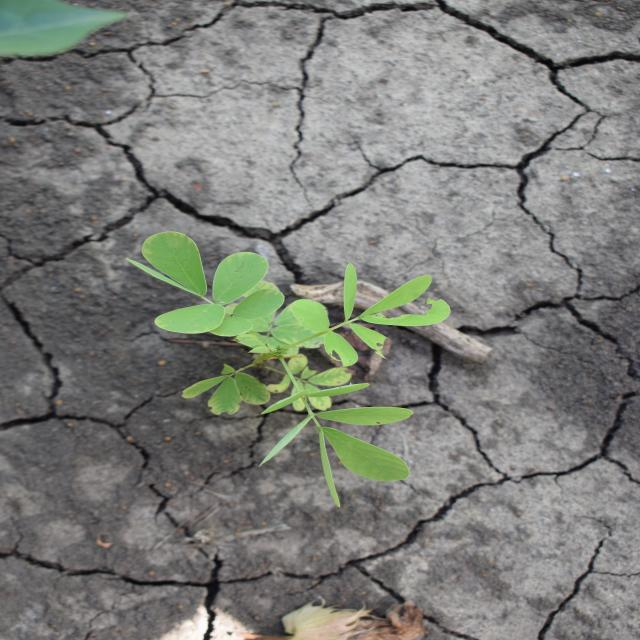Sicklepod: (121, 230, 456, 510)
